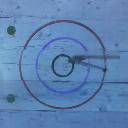Axe Tip: (74, 56, 86, 60)
